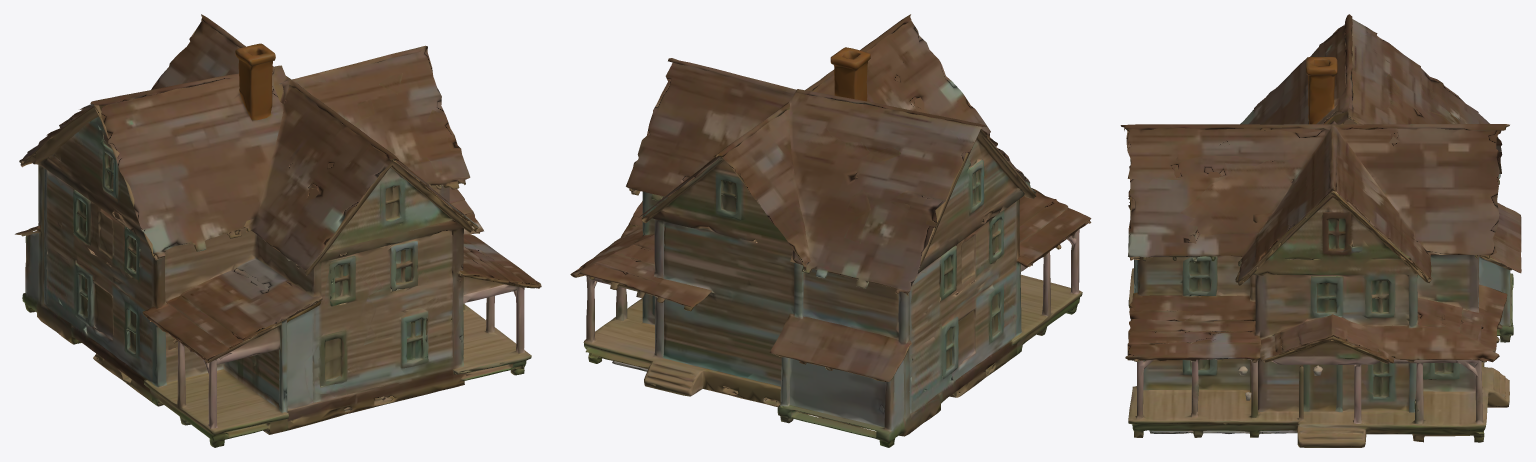
The model's file is Protagonist_House.glb.
The picture shows the model from 3 angles, left to right: view 1: azimuth 30°, elevation 25°; view 2: azimuth 150°, elevation 25°; view 3: azimuth 270°, elevation 25°; orthographic projection.
Visible parts, largest first — view 1: world; view 2: world; view 3: world.
Boxes of the visible parts, <box> form: world: <box>15,14,541,447</box>; world: <box>570,14,1091,447</box>; world: <box>1120,14,1521,447</box>.
Bounding box in the file's own units: 0.9917 × 0.8019 × 0.9955.
Materials: 1 (1 with a texture image).
